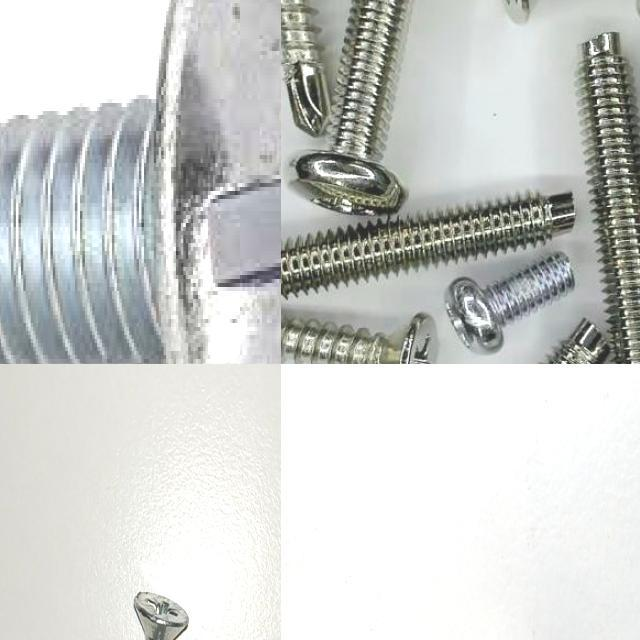Screw: (0, 0, 281, 364), (281, 193, 575, 298), (295, 0, 411, 214), (579, 31, 640, 364), (445, 254, 575, 354), (281, 315, 438, 364), (281, 0, 330, 136), (134, 591, 189, 640), (505, 0, 536, 23)
